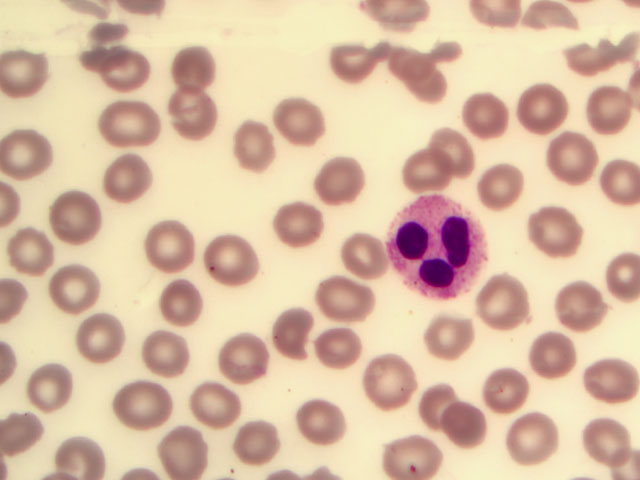RBC: (2, 47, 54, 102), (96, 37, 148, 92), (169, 37, 221, 92), (166, 82, 218, 137), (105, 97, 157, 152), (101, 153, 153, 208), (47, 192, 99, 247), (4, 124, 56, 179), (4, 223, 56, 278), (45, 260, 97, 315), (78, 310, 130, 365), (25, 360, 77, 415), (118, 380, 170, 435), (137, 320, 189, 375), (152, 280, 204, 335), (145, 214, 197, 269), (208, 235, 260, 290), (271, 198, 323, 253), (313, 155, 365, 210), (228, 120, 280, 175), (261, 96, 313, 151), (335, 29, 387, 84), (396, 40, 448, 95), (463, 85, 515, 140), (432, 124, 484, 179), (399, 152, 451, 207), (474, 153, 526, 208), (544, 132, 596, 187), (516, 84, 568, 139), (588, 82, 640, 137), (588, 159, 640, 214), (523, 200, 575, 255), (547, 275, 599, 330), (588, 253, 640, 308), (474, 271, 526, 326), (423, 307, 475, 362), (337, 226, 389, 281), (322, 275, 374, 330), (267, 305, 319, 360), (312, 310, 364, 365), (354, 346, 406, 401), (411, 368, 463, 423), (432, 390, 484, 445), (486, 368, 538, 423), (531, 328, 583, 383), (588, 359, 640, 414), (507, 402, 559, 457), (588, 412, 640, 467), (383, 425, 435, 480), (293, 394, 345, 449), (238, 412, 290, 467), (187, 378, 239, 433), (218, 335, 270, 390), (158, 425, 210, 480), (54, 425, 106, 480)
WBC: (382, 196, 487, 295)
